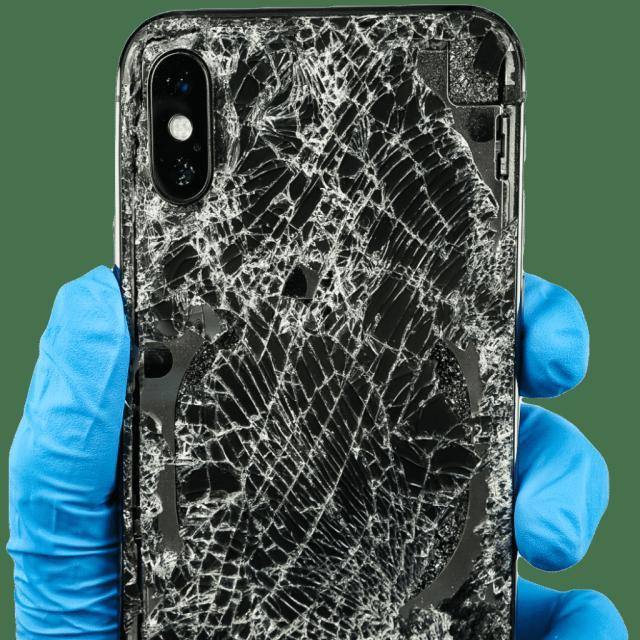Crack: (88, 9, 569, 640)
